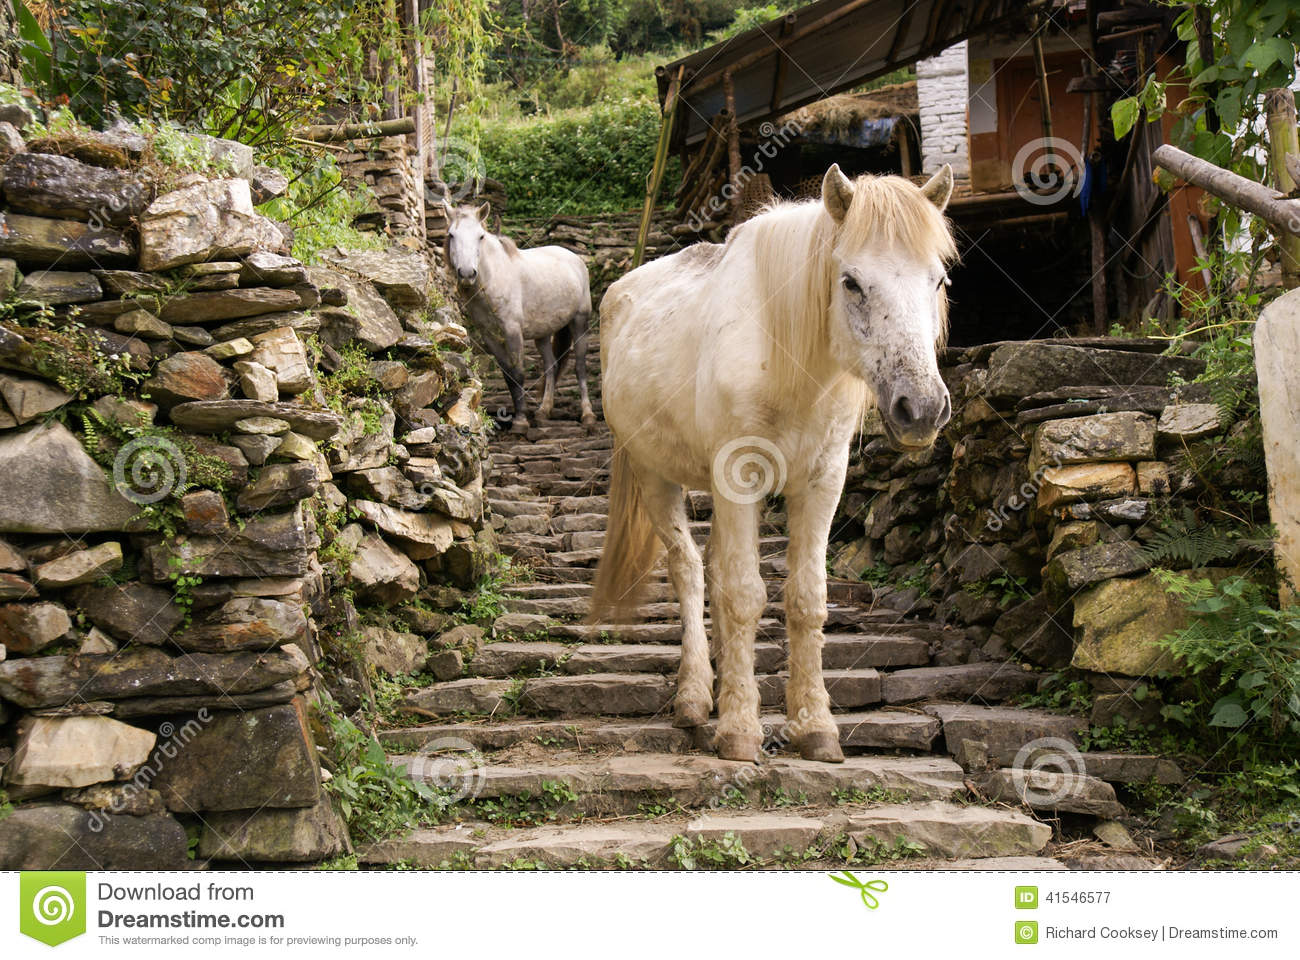equine: (559, 165, 966, 794), (426, 178, 617, 440)
